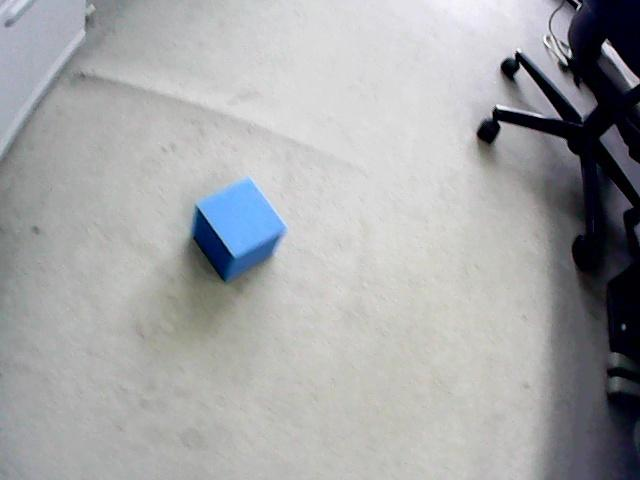blue_block: (193, 178, 286, 281)
